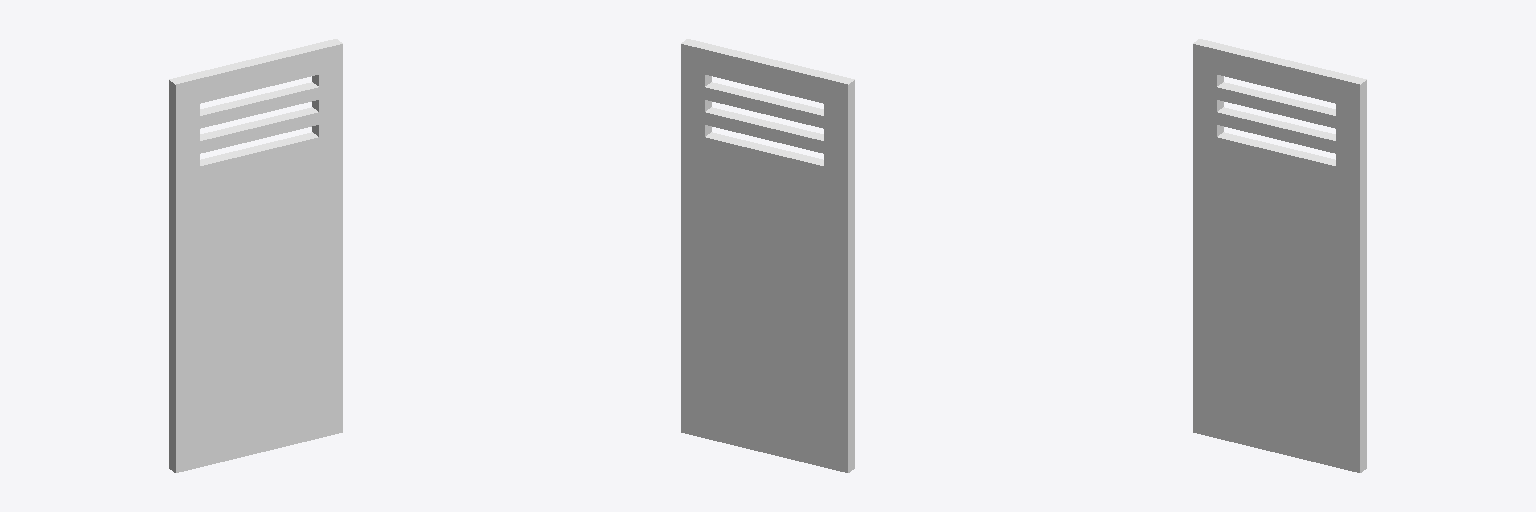
File: Taquilla-0.obj
3 views of the same model, side by side, from view 1: azimuth 30°, elevation 25°; view 2: azimuth 150°, elevation 25°; view 3: azimuth 330°, elevation 25° (orthographic).
Visible parts, largest first — view 1: object 1; view 2: object 1; view 3: object 1.
Boxes of the visible parts, box(x1,y1,x2,y2) form: object 1: box(169, 39, 342, 472); object 1: box(681, 39, 854, 472); object 1: box(1193, 39, 1366, 472).
Bounding box in the file's own units: 1.4 × 3.1 × 0.1.